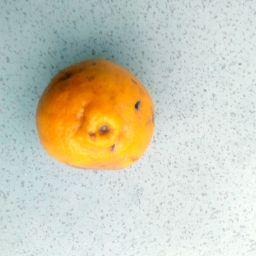Unripe: (39, 61, 157, 167)
